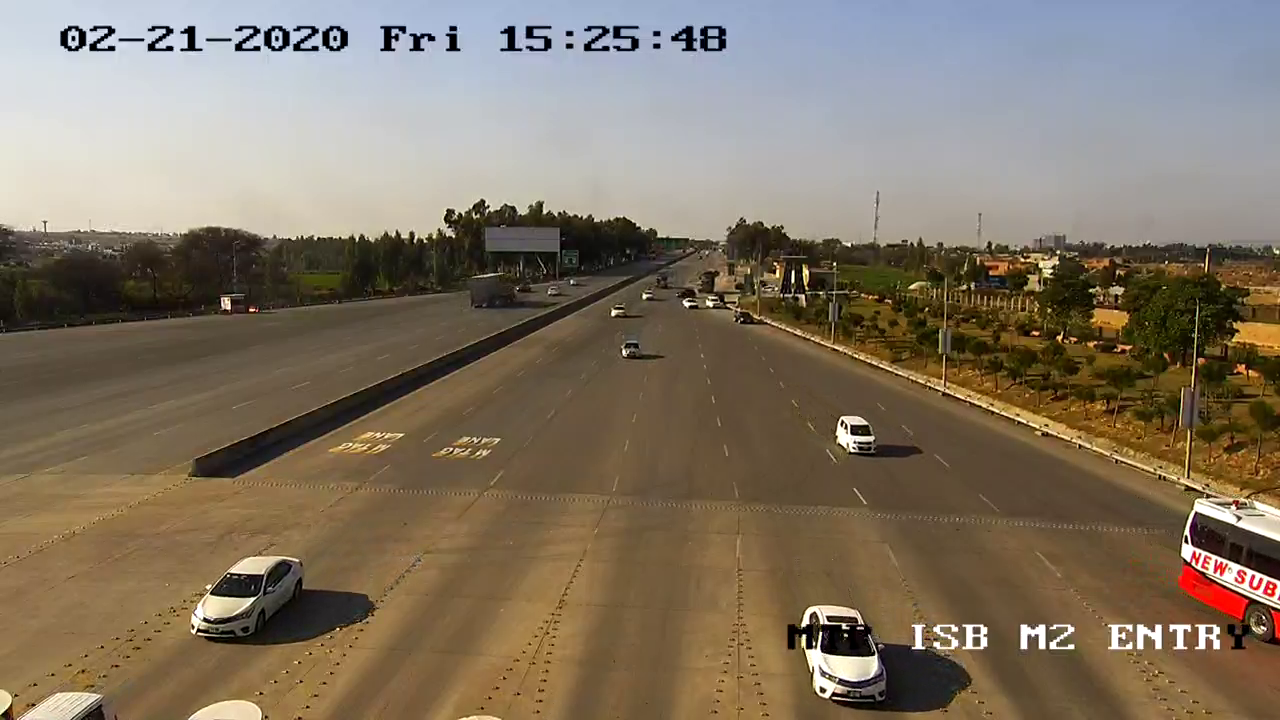f1: (182, 546, 311, 645), (833, 407, 886, 461)
